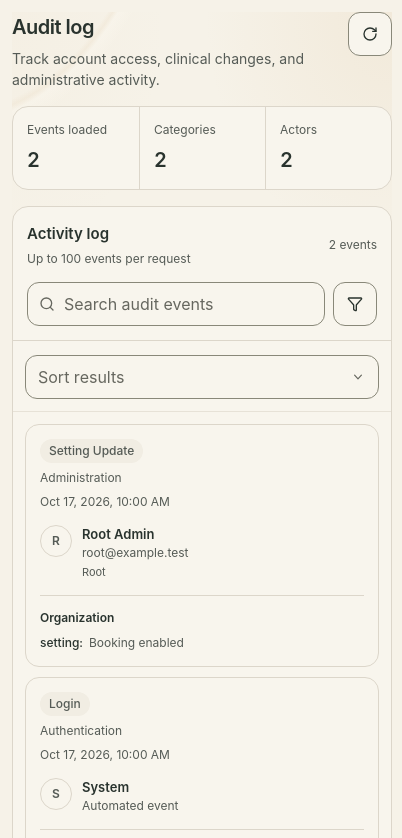
Test: searches events while keeping loaded summaries accurate and sensitive metadata hidden
Expected: the text "root@example.test" is shown, [82, 544, 188, 562]
Expected: the text "Booking enabled" is shown, [89, 633, 184, 652]
Type "root@example.test" into the search field labelled "Search audit events" at {"x": 176, "y": 304}, box [27, 282, 325, 326]
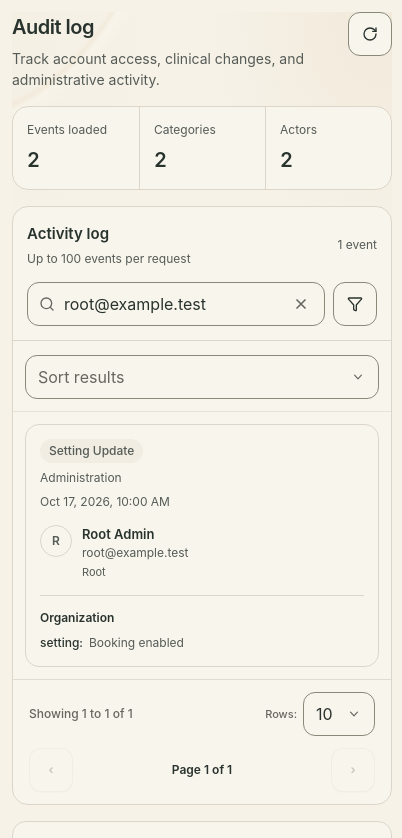
Expected: the element named "Loaded audit event summary" reads "Events loaded 2 Categories 2 Actors 2", [12, 106, 392, 190]
Replace the text in the search field named "Search audit events" with "no match" at {"x": 176, "y": 304}, box [27, 282, 325, 326]
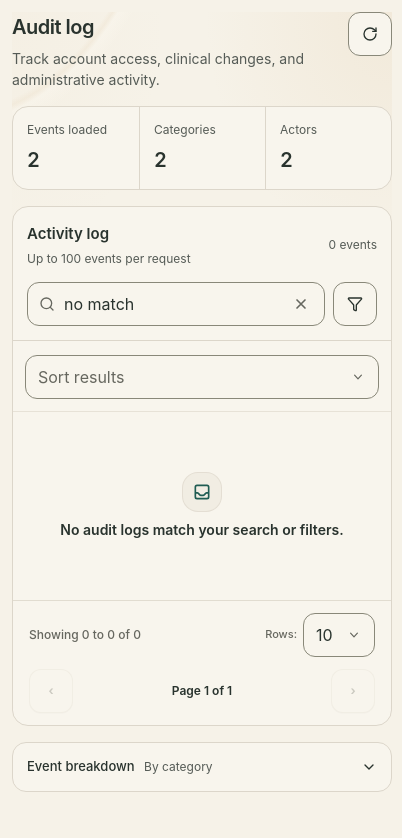
Expected: the text "No audit logs match your search or filters." is shown, [60, 520, 344, 540]
